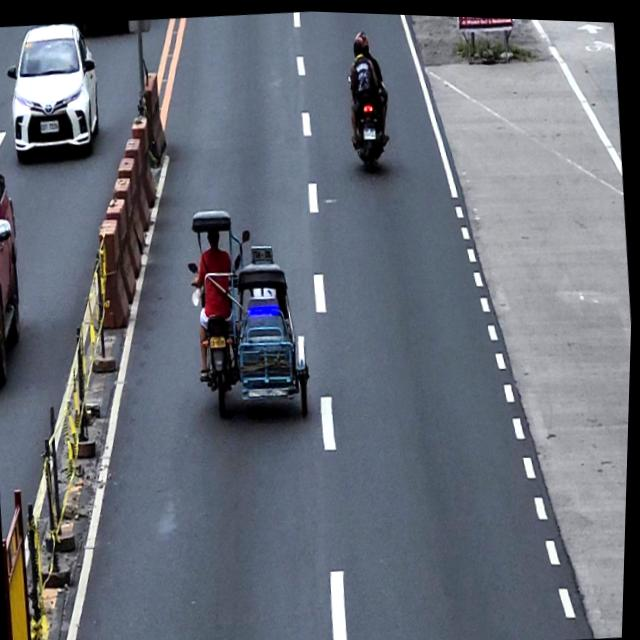Car: (0, 19, 106, 165), (0, 151, 34, 394)
License-Plate: (39, 119, 61, 133), (211, 331, 229, 348), (363, 122, 377, 138)
Motorcycle: (345, 67, 394, 171)
Tricycle: (180, 199, 320, 423)
